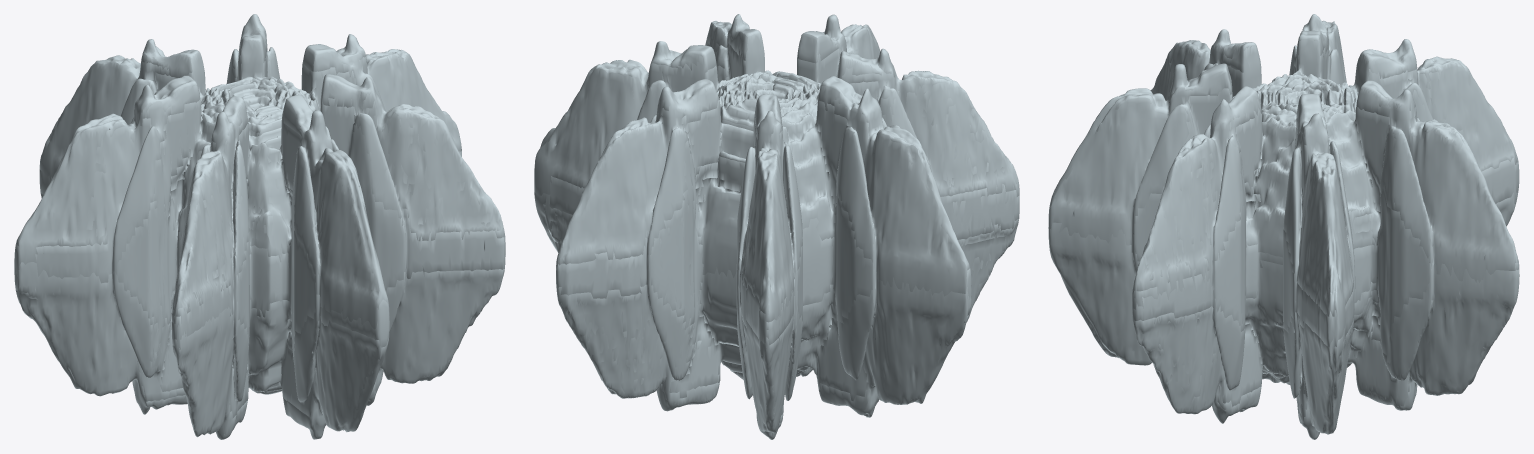
Rendered from SM_Unit_IceWisp.fbx.
3 renders of one model, left to right at view 1: azimuth 30°, elevation 25°; view 2: azimuth 150°, elevation 25°; view 3: azimuth 270°, elevation 25°, orthographic.
Parts seen in each view (by area): view 1: SM_Unit_IceWisp; view 2: SM_Unit_IceWisp; view 3: SM_Unit_IceWisp.
Boxes of the visible parts, x1,y1,x2,y2 form: SM_Unit_IceWisp: (14, 14, 505, 439); SM_Unit_IceWisp: (534, 14, 1019, 439); SM_Unit_IceWisp: (1048, 14, 1519, 439).
Bounding box in the file's own units: 1.6 × 1.15 × 1.51.
